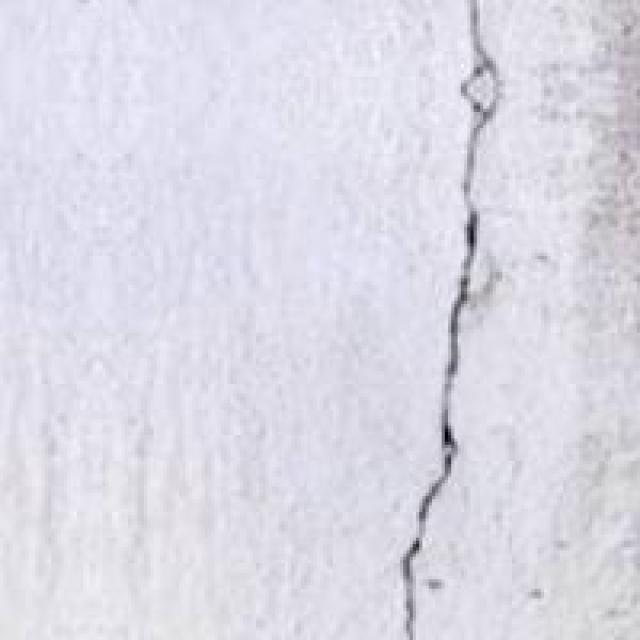Crack: (394, 3, 576, 637)
